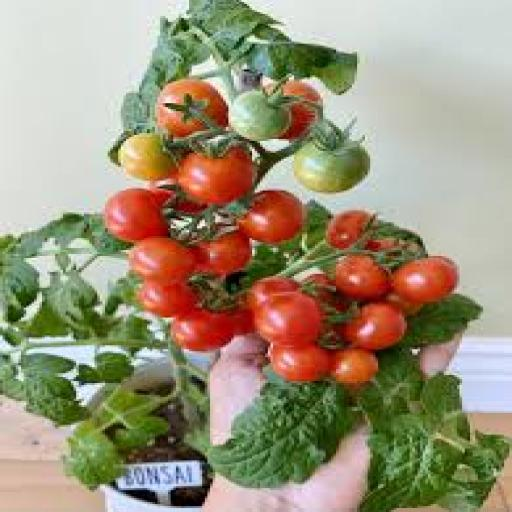tomato: (179, 147, 254, 204), (155, 80, 228, 136), (255, 292, 322, 347), (295, 143, 370, 192), (239, 191, 307, 244), (106, 189, 168, 242), (339, 302, 406, 351), (394, 256, 459, 303), (229, 92, 291, 140), (129, 239, 196, 283), (119, 133, 175, 180), (171, 310, 233, 351), (197, 231, 252, 275), (337, 255, 391, 299), (271, 346, 330, 383), (137, 282, 196, 317), (150, 179, 207, 214), (247, 276, 299, 311), (326, 211, 372, 250), (331, 350, 378, 384), (279, 104, 317, 140), (302, 272, 341, 307), (384, 292, 422, 315), (232, 308, 254, 335), (150, 185, 175, 208), (365, 239, 399, 252)
